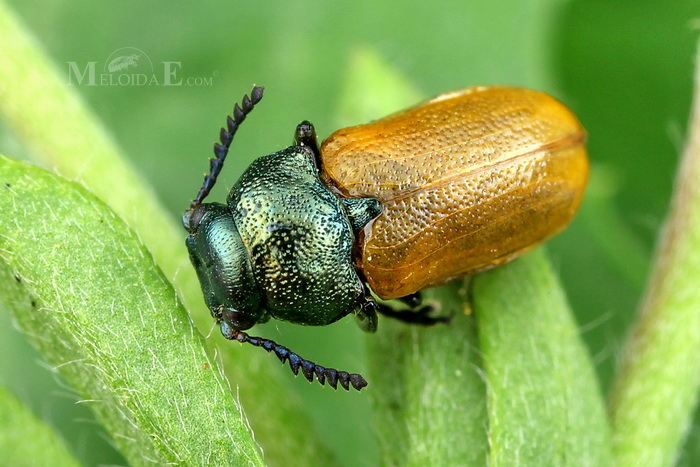Labidostomis_longimana: (185, 70, 592, 405)
